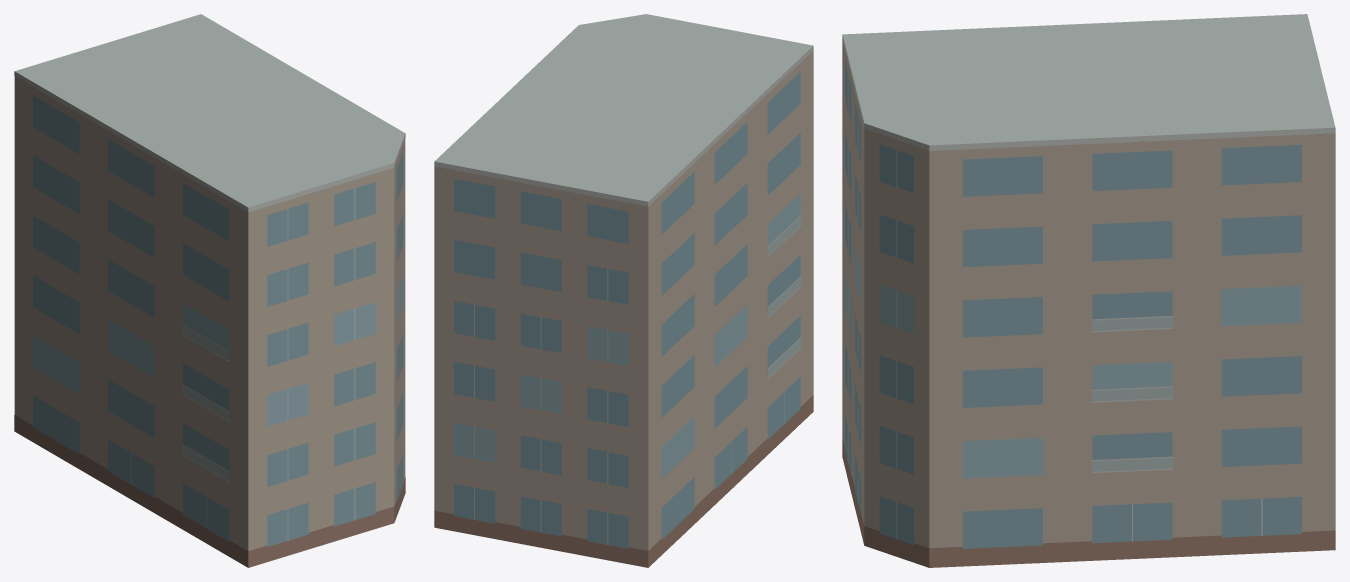
The model's file is survey-upis-33035017.glb.
The picture shows the model from 3 angles, left to right: view 1: azimuth 30°, elevation 25°; view 2: azimuth 150°, elevation 25°; view 3: azimuth 270°, elevation 25°; orthographic projection. The views are drawn at different scales.
Visible parts, largest first — view 1: survey-upis-33035017.tmp; view 2: survey-upis-33035017.tmp; view 3: survey-upis-33035017.tmp.
Boxes of the visible parts, box(x1,y1,x2,y2) form: survey-upis-33035017.tmp: box(14, 14, 405, 567); survey-upis-33035017.tmp: box(434, 14, 813, 567); survey-upis-33035017.tmp: box(842, 14, 1335, 567).
Bounding box in the file's own units: 12.28 × 18.4 × 19.47.
